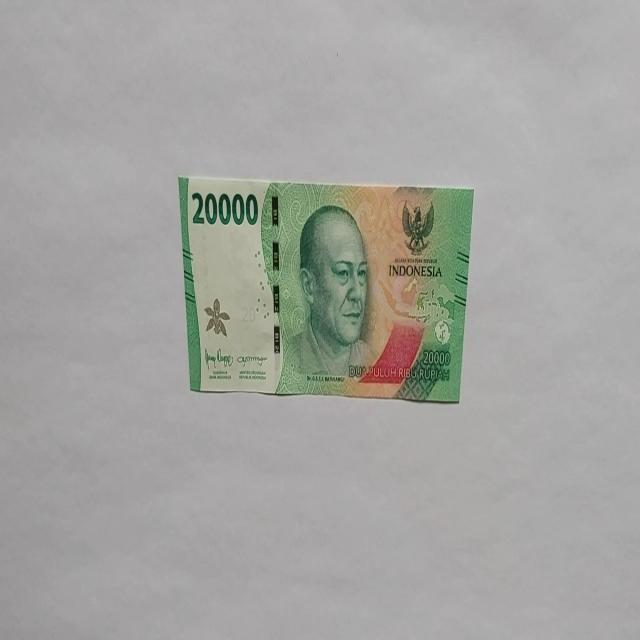dua puluh ribu rupiah: (178, 174, 474, 402), (277, 202, 382, 394)
